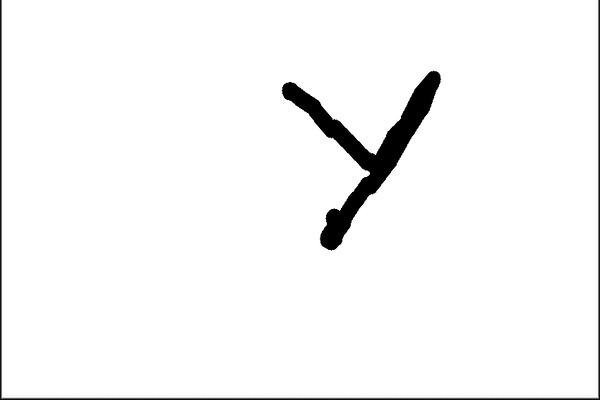Y: (274, 62, 454, 257)
